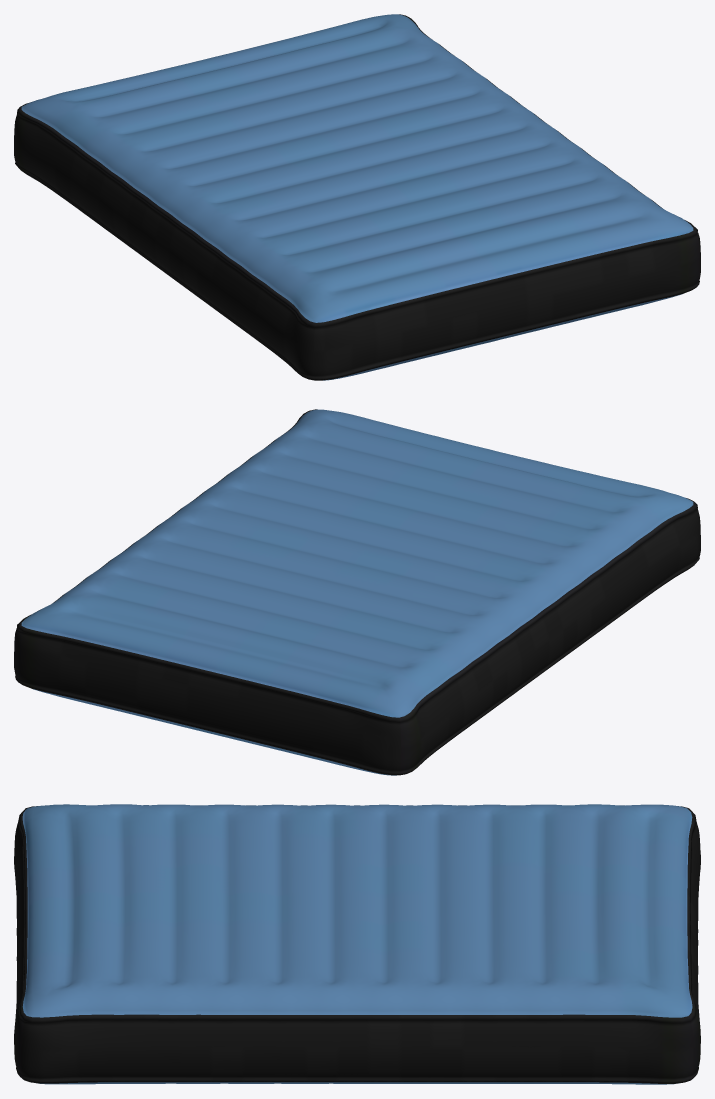
File: Bed50.glb
3 views of the same model, one above another, from view 1: azimuth 30°, elevation 25°; view 2: azimuth 150°, elevation 25°; view 3: azimuth 270°, elevation 25° (orthographic). The views are drawn at different scales.
Parts seen in each view (by area): view 1: Mattress50; view 2: Mattress50; view 3: Mattress50.
Part boxes in pixels (<box>): Mattress50: <box>14,14,700,380</box>; Mattress50: <box>14,409,700,775</box>; Mattress50: <box>14,804,700,1084</box>.
Size of the model in its own units: 3.76 by 0.8125 by 4.98.
1 material, 1 textured.
